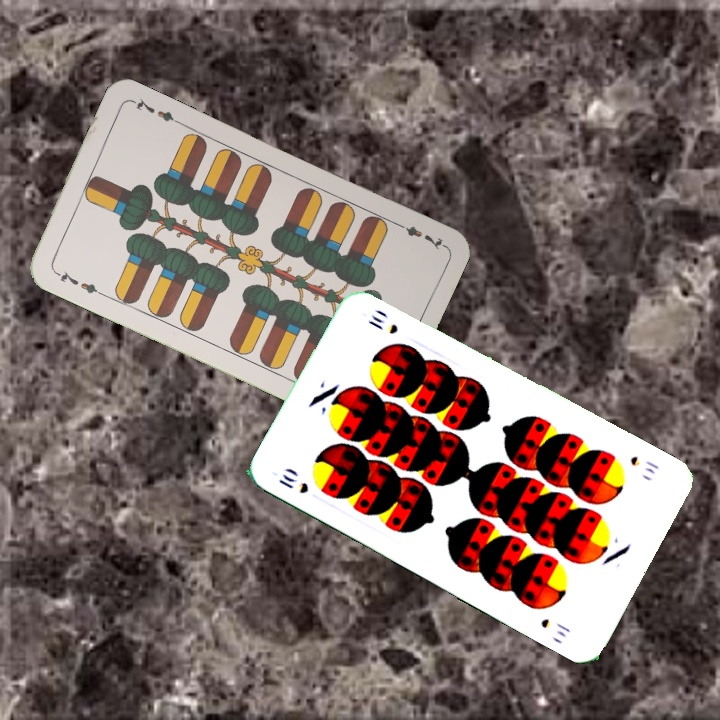E7: (391, 218, 447, 253), (49, 265, 105, 298)
S10: (274, 470, 312, 497), (626, 452, 662, 477)
